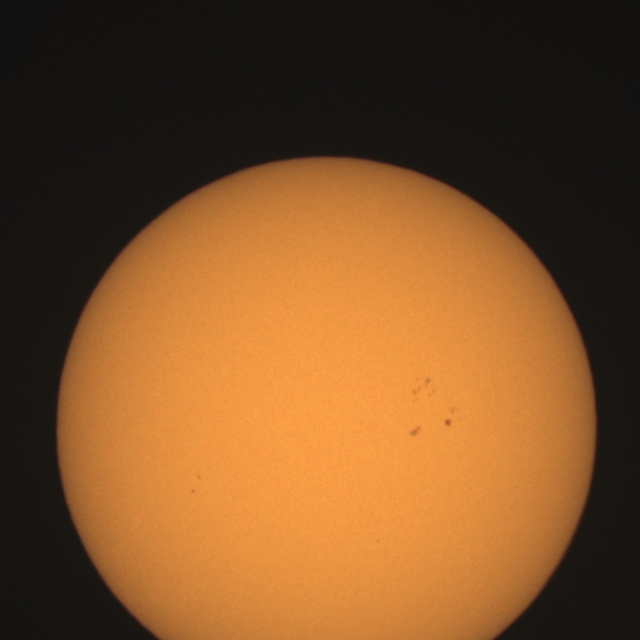sunspot: (411, 376, 437, 402), (443, 408, 456, 428), (190, 474, 202, 494), (408, 425, 422, 438), (195, 473, 202, 481), (190, 488, 196, 494)
